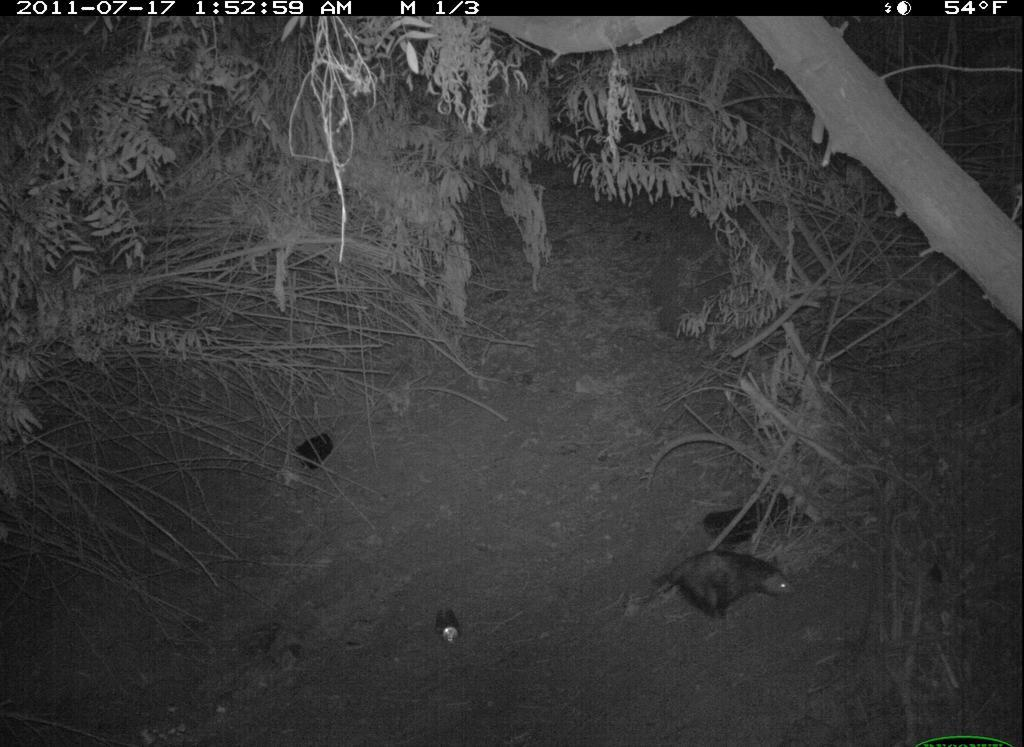opossum: (625, 547, 805, 627)
